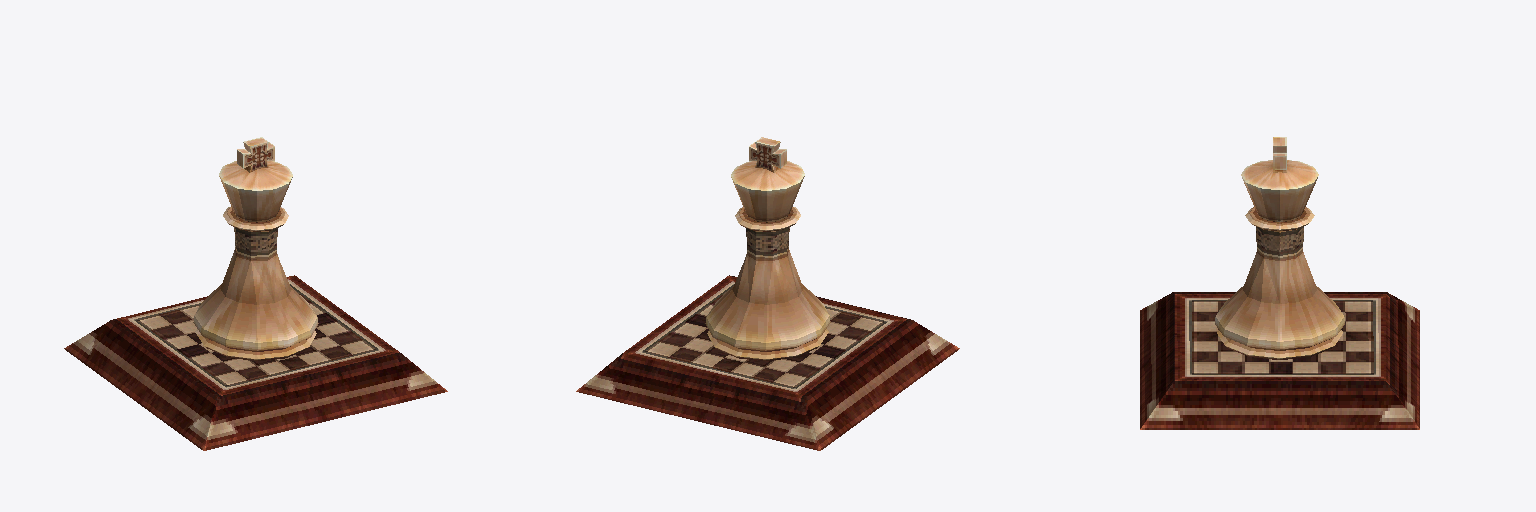
The picture shows the model from 3 angles: view 1: azimuth 30°, elevation 25°; view 2: azimuth 150°, elevation 25°; view 3: azimuth 270°, elevation 25°; orthographic projection.
Size of the model in its own units: 3.29 by 2.94 by 3.26.
1 materials, 1 textured.